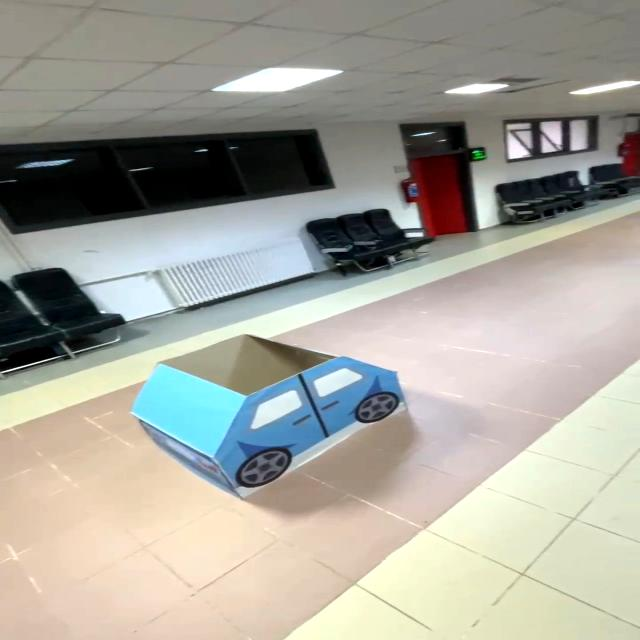blue_car: (107, 327, 450, 511)
